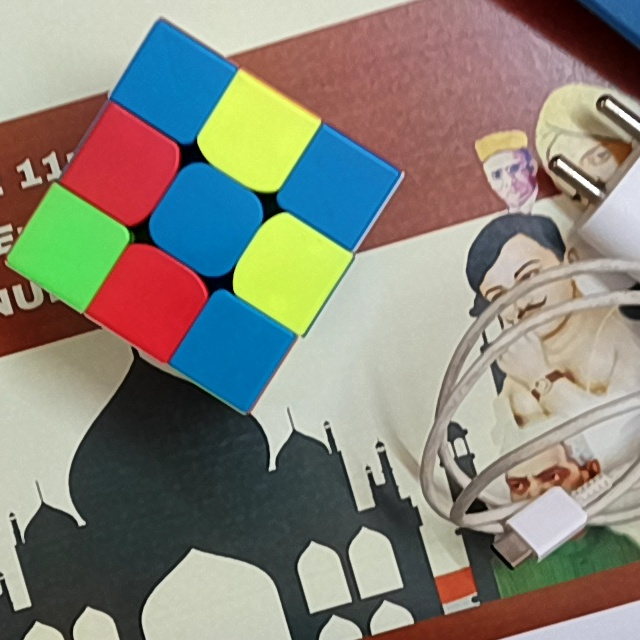tile: (170, 185, 237, 252), (255, 238, 322, 304), (201, 315, 268, 380), (225, 99, 289, 167), (119, 264, 183, 332), (92, 133, 157, 199), (305, 156, 372, 220), (38, 214, 102, 280), (141, 53, 207, 115)
